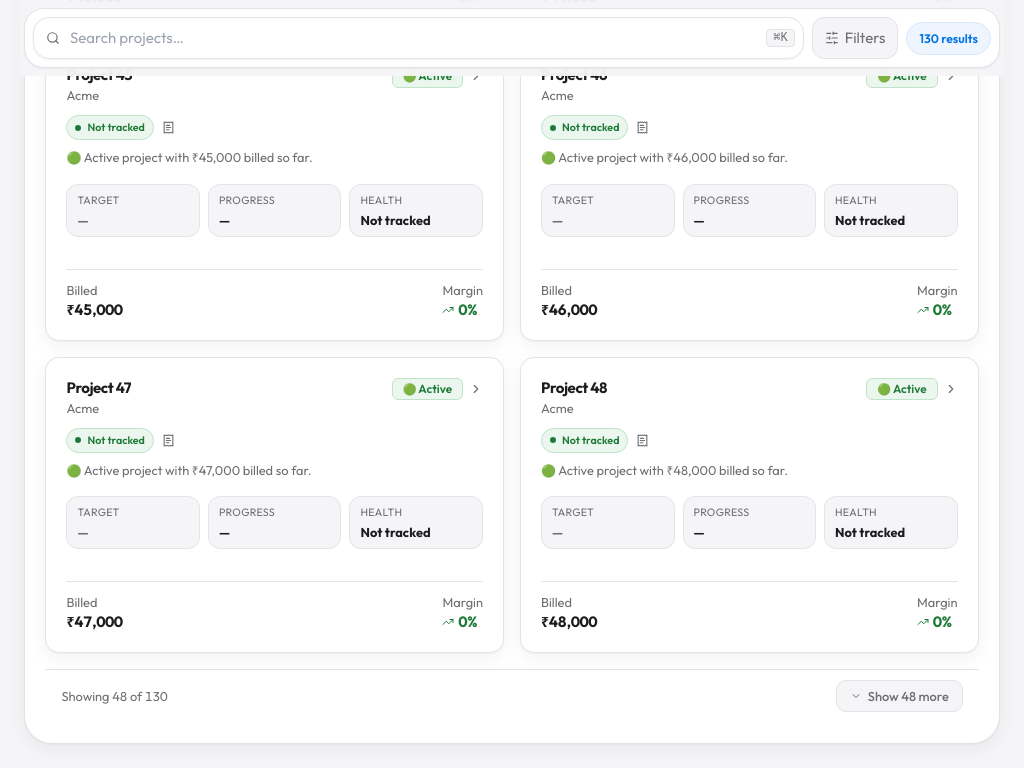
Test: Projects on GET /api/projects/query › "Show more" fetches the next cursor page and records it in the URL
(page scrolled)
Expected: the text "Showing 48 of 130" is shown, [62,687,168,705]
Click the button "Show 48 more" at (899, 696), box [836,680,962,712]
(page scrolled)
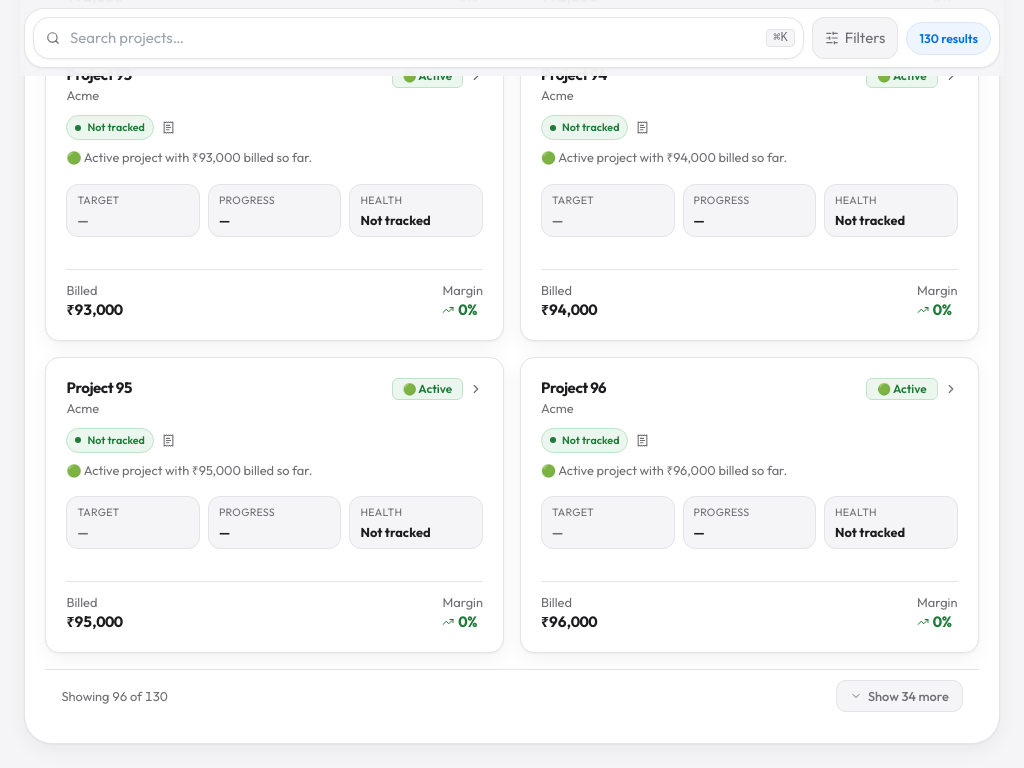
Now the text "Showing 96 of 130" is shown, box [62,687,168,705]
